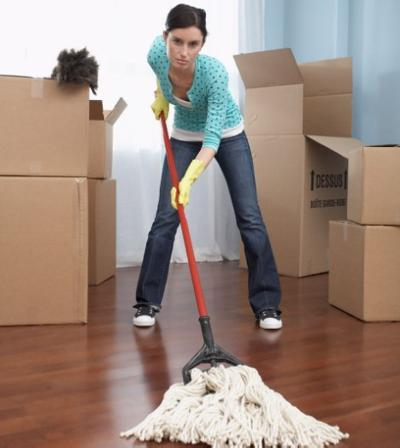person: (133, 5, 286, 337)
